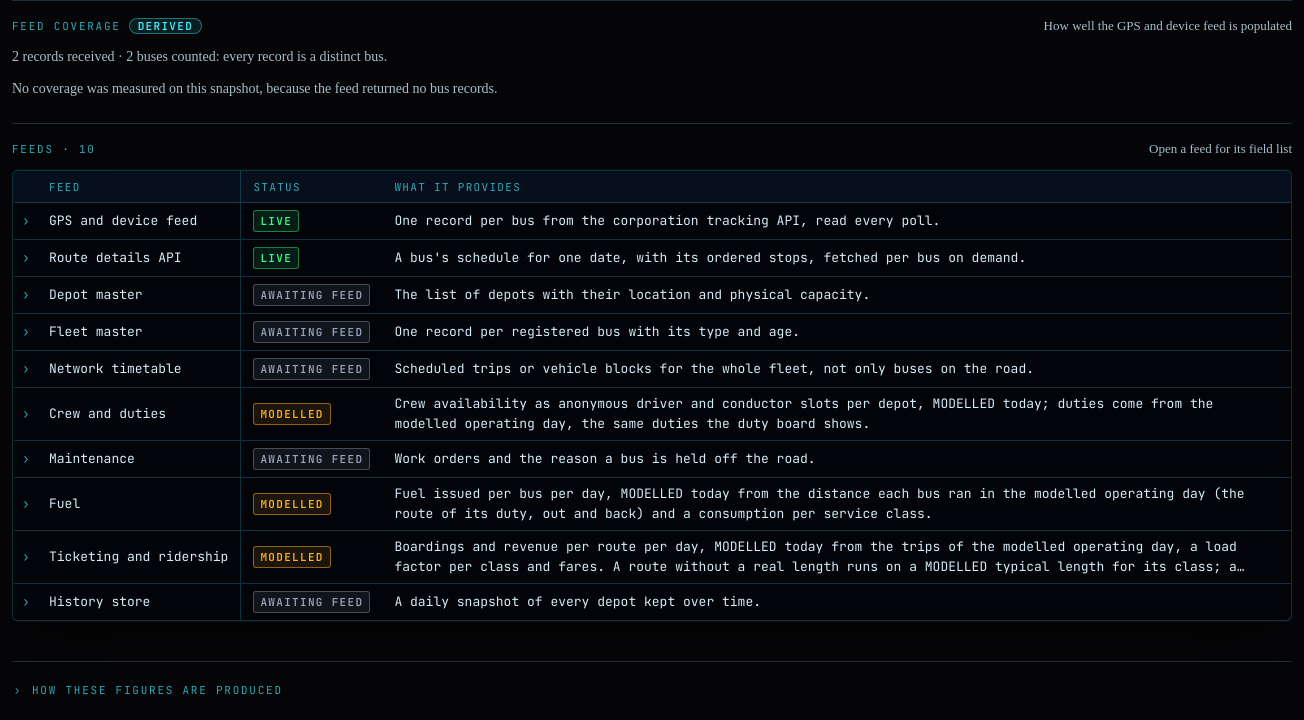
Test case: the data sources page › opens a row for its field list; no separate field-list section and no FIELDS column
What coordinates should you click on to do the following:
click the 8th button "›"
I would click on:
 (26, 504)
Its box is x1=16 y1=492 x2=36 y2=516.
(page scrolled)
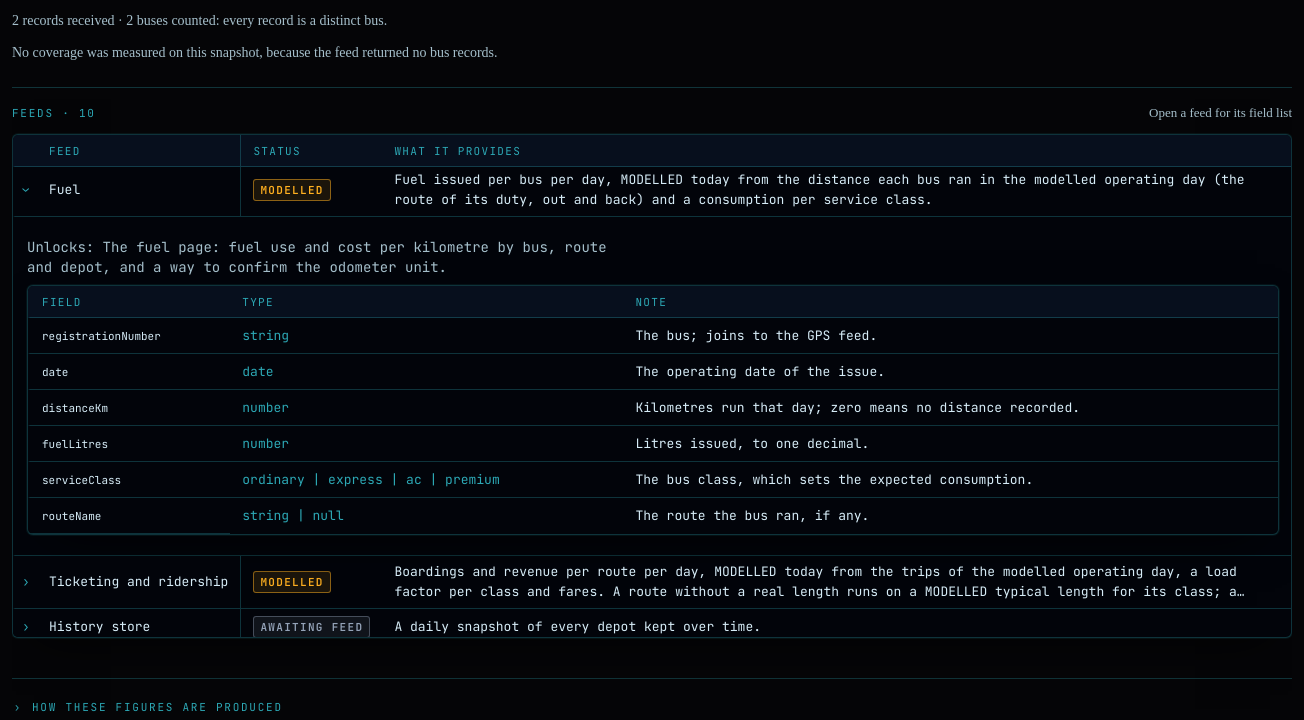
Expected: the element with test id "depot-feed-fields" is shown, x1=27 y1=229 x2=1279 y2=543
